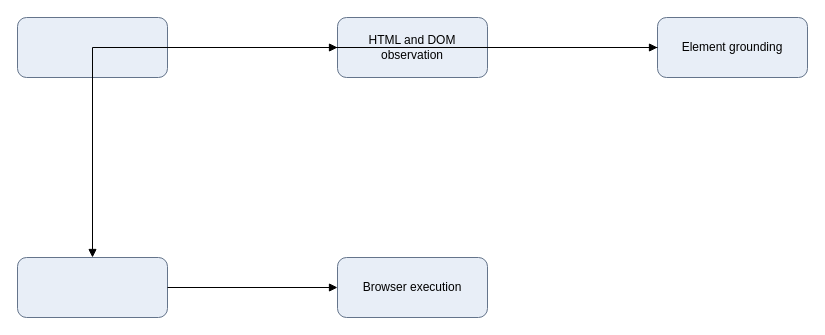
Image size: 825x335. Some labels were removed from this diagram. The box of each missing label's shape, as (x1, y1, x2, y2) in pixels:
Action generation: (16, 256, 168, 318)
Web task: (16, 16, 168, 78)
